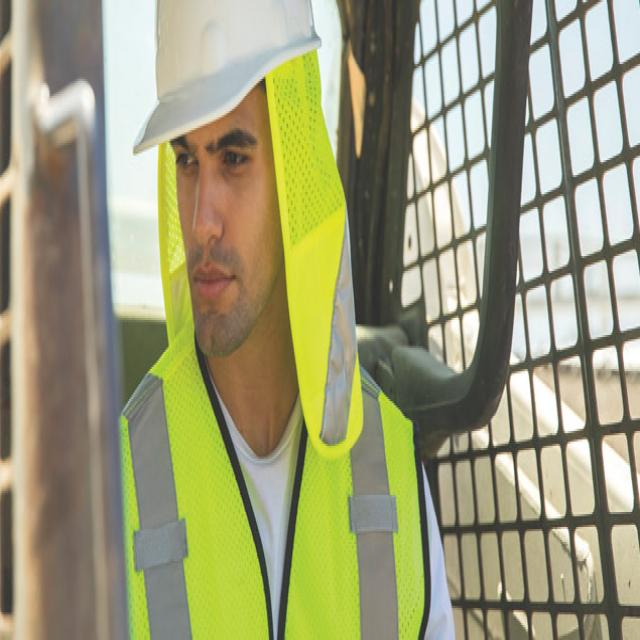Reflective-Jacket: (116, 333, 431, 636)
Safety-Helmet: (130, 0, 328, 162)
